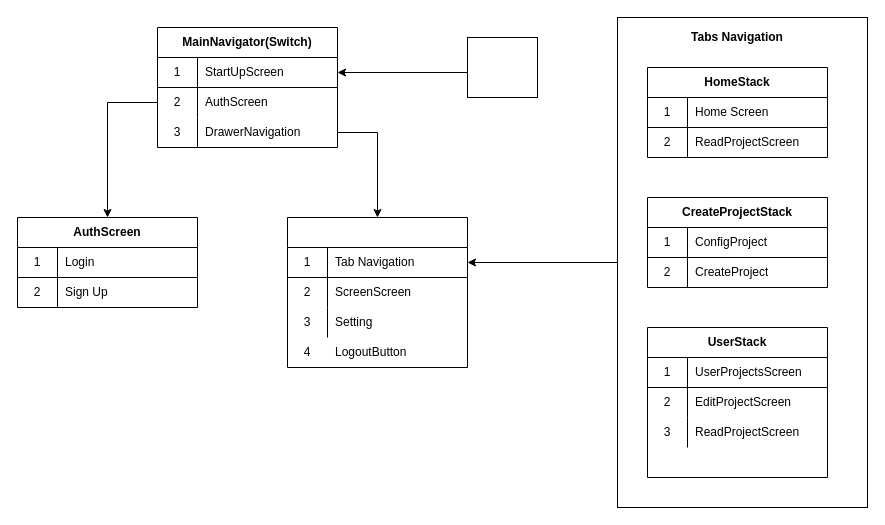
This 885x525 diagram has some shape labels left out. Here are the shapes that lost their labels. From the top down, the box of each, then its label:
(466, 36, 538, 98): Starting Page of the application
(286, 216, 468, 368): Drawer Navigation
